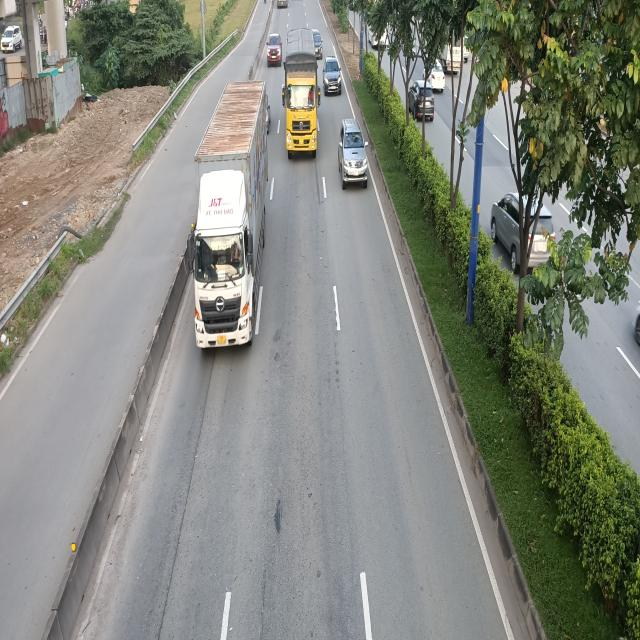car: (338, 116, 368, 186), (322, 58, 342, 96), (268, 33, 284, 68)
truck: (180, 77, 266, 350), (282, 34, 322, 159)
